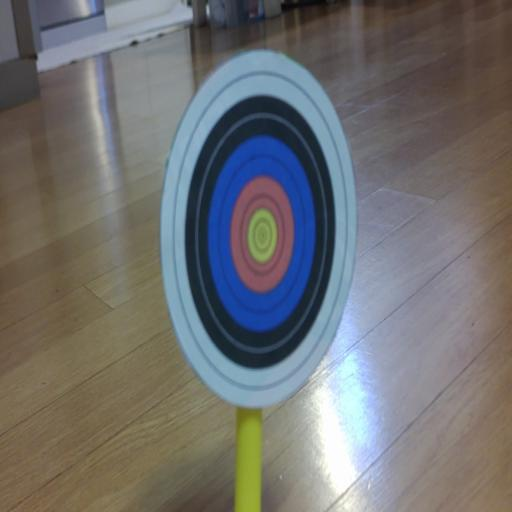target: (160, 50, 357, 409)
